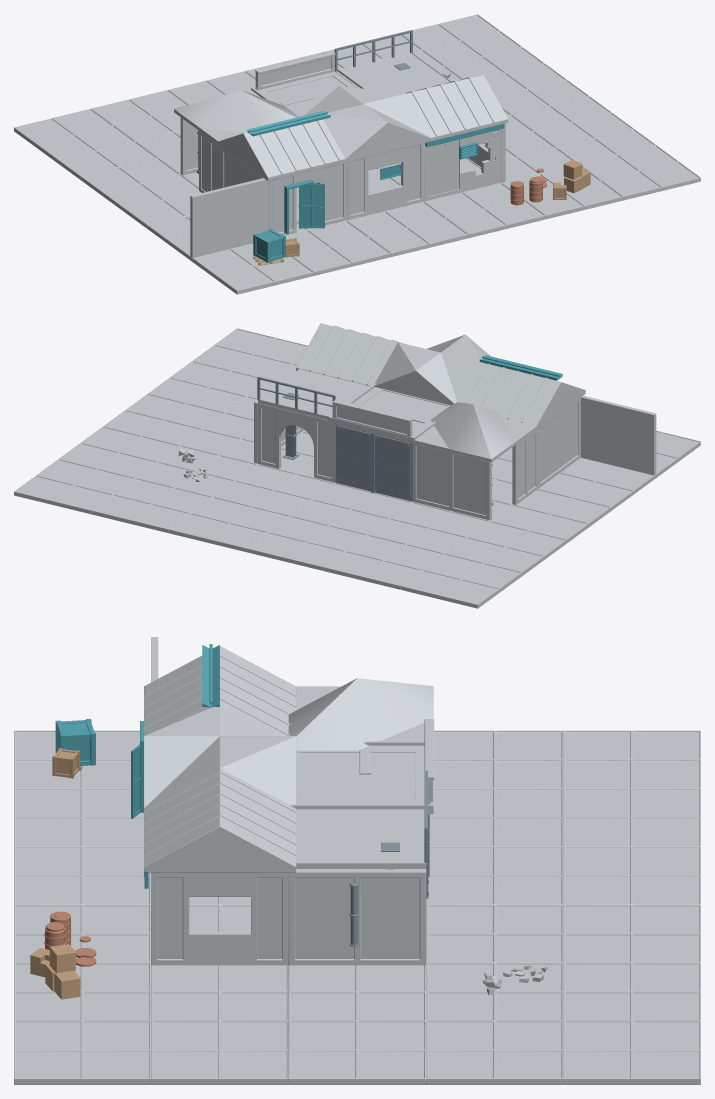
The model's file is ModKit_Industrial_Outpost.glb.
3 views of the same model, one above another, from view 1: azimuth 30°, elevation 25°; view 2: azimuth 150°, elevation 25°; view 3: azimuth 270°, elevation 25° (orthographic). The views are drawn at different scales.
Visible parts, largest first — view 1: SM_Roof_Valley_4m_01, SM_Wall_Corner_4m_01, SM_Roof_Pitched_4m_01, SM_Roof_Pitched_4m_02, SM_Wall_Window_4m_01, SM_Floor_4m_11, SM_Floor_4m_26, SM_Roof_Corner_4m_01, SM_Floor_4m_04, SM_Floor_4m_05, SM_Floor_4m_16, SM_Wall_Damaged_4m_01 (+29 smaller); view 2: SM_Wall_Corner_4m_01, SM_Roof_Valley_4m_01, SM_Wall_Straight_4m_01, SM_Roof_Pitched_4m_01, SM_Wall_Reinforced_4m_01, SM_Roof_Corner_4m_01, SM_Roof_Pitched_4m_02, SM_Floor_4m_05, SM_Floor_4m_10, SM_Floor_4m_15, SM_Floor_4m_30, SM_Floor_4m_25 (+26 smaller); view 3: SM_Roof_Pitched_4m_02, SM_Wall_Straight_4m_02, SM_Wall_Window_4m_02, SM_Roof_Valley_4m_01, SM_Floor_4m_28, SM_Floor_4m_26, SM_Floor_4m_27, SM_Floor_4m_29, SM_Floor_4m_30, SM_Roof_Corner_4m_01, SM_Floor_4m_05, SM_Floor_4m_10 (+24 smaller).
Boxes of the visible parts, bbox=[...] form: SM_Roof_Valley_4m_01: bbox=[304, 86, 430, 160]; SM_Wall_Corner_4m_01: bbox=[190, 147, 269, 257]; SM_Roof_Pitched_4m_01: bbox=[218, 119, 353, 180]; SM_Roof_Pitched_4m_02: bbox=[398, 74, 508, 143]; SM_Wall_Window_4m_01: bbox=[347, 143, 424, 220]; SM_Floor_4m_11: bbox=[347, 201, 468, 256]; SM_Floor_4m_26: bbox=[582, 145, 700, 200]; SM_Roof_Corner_4m_01: bbox=[174, 89, 298, 144]; SM_Floor_4m_04: bbox=[58, 141, 179, 196]; SM_Floor_4m_05: bbox=[14, 108, 135, 163]; SM_Floor_4m_16: bbox=[425, 182, 546, 237]; SM_Wall_Damaged_4m_01: bbox=[424, 129, 501, 201]; SM_Wall_Corner_4m_01: bbox=[538, 395, 656, 488]; SM_Roof_Valley_4m_01: bbox=[375, 334, 490, 405]; SM_Wall_Straight_4m_01: bbox=[412, 443, 491, 520]; SM_Roof_Pitched_4m_01: bbox=[456, 361, 585, 429]; SM_Wall_Reinforced_4m_01: bbox=[335, 424, 412, 501]; SM_Roof_Corner_4m_01: bbox=[406, 402, 540, 462]; SM_Roof_Pitched_4m_02: bbox=[296, 323, 401, 386]; SM_Floor_4m_05: bbox=[400, 553, 522, 608]; SM_Floor_4m_10: bbox=[323, 534, 444, 589]; SM_Floor_4m_15: bbox=[246, 515, 367, 570]; SM_Floor_4m_30: bbox=[14, 459, 135, 514]; SM_Floor_4m_25: bbox=[91, 478, 212, 532]; SM_Roof_Pitched_4m_02: bbox=[144, 768, 296, 872]; SM_Wall_Straight_4m_02: bbox=[288, 869, 426, 965]; SM_Wall_Window_4m_02: bbox=[151, 872, 288, 965]; SM_Roof_Valley_4m_01: bbox=[144, 704, 296, 808]; SM_Floor_4m_28: bbox=[288, 1021, 426, 1084]; SM_Floor_4m_26: bbox=[14, 1021, 151, 1084]; SM_Floor_4m_27: bbox=[151, 1021, 288, 1084]; SM_Floor_4m_29: bbox=[426, 1021, 563, 1084]; SM_Floor_4m_30: bbox=[563, 1021, 700, 1084]; SM_Roof_Corner_4m_01: bbox=[288, 678, 433, 750]; SM_Floor_4m_05: bbox=[563, 730, 700, 788]; SM_Floor_4m_10: bbox=[563, 788, 700, 846].
Size of the model in its own units: 24 by 4.85 by 20.
